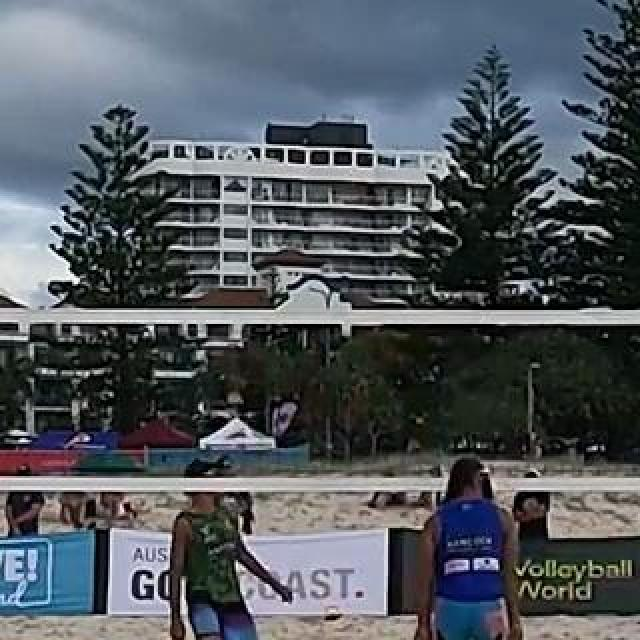volleyball: (325, 604, 341, 622)
